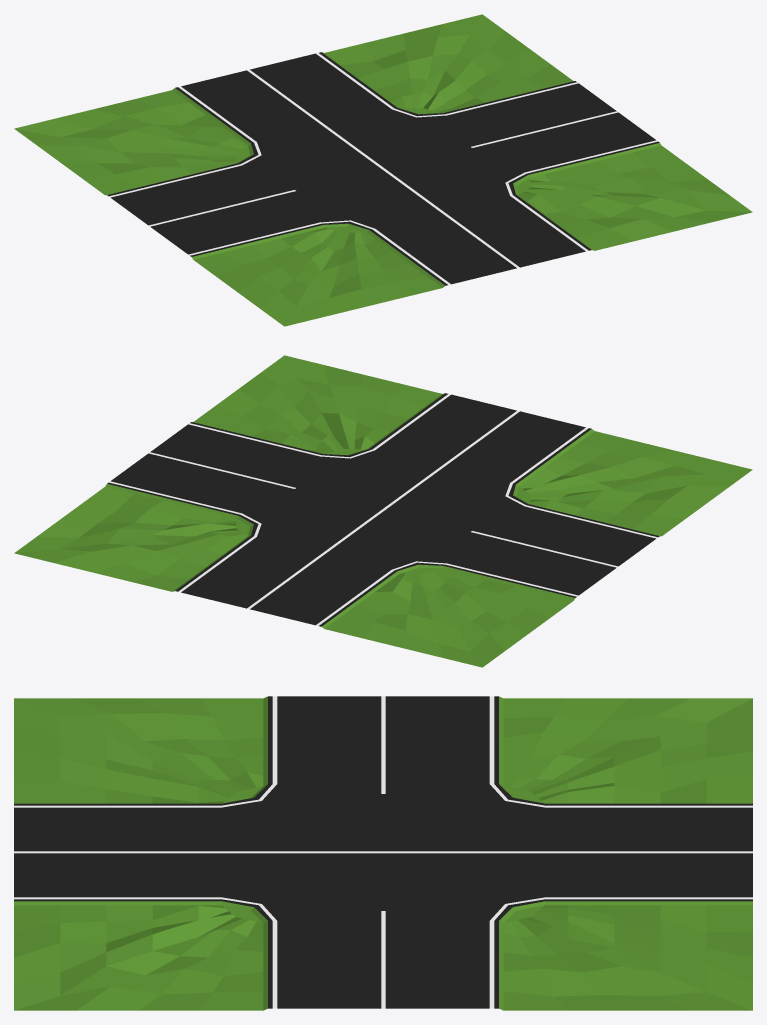
Rendered from street_X_land.fbx.
The picture shows the model from 3 angles, top to bottom: view 1: azimuth 30°, elevation 25°; view 2: azimuth 150°, elevation 25°; view 3: azimuth 270°, elevation 25°; orthographic projection. The views are drawn at different scales.
Parts seen in each view (by area): view 1: street_X_land; view 2: street_X_land; view 3: street_X_land.
Boxes of the visible parts, x1,y1,x2,y2 form: street_X_land: [14, 14, 752, 326]; street_X_land: [14, 355, 752, 667]; street_X_land: [14, 696, 752, 1010].
Bounding box in the file's own units: 3200 × 58.78 × 3200.
